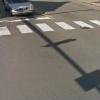crosswalk: (0, 18, 99, 37)
